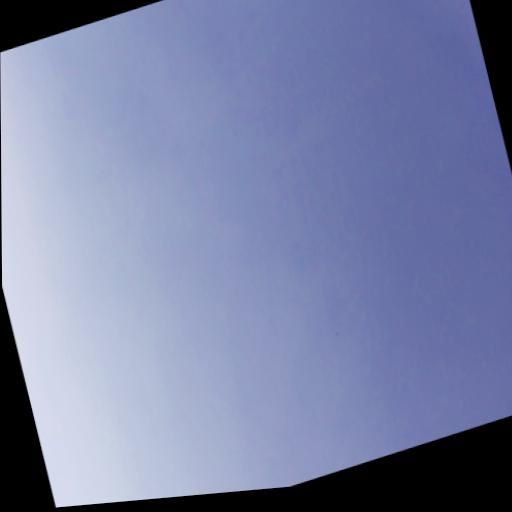drones: (331, 325, 343, 343)
